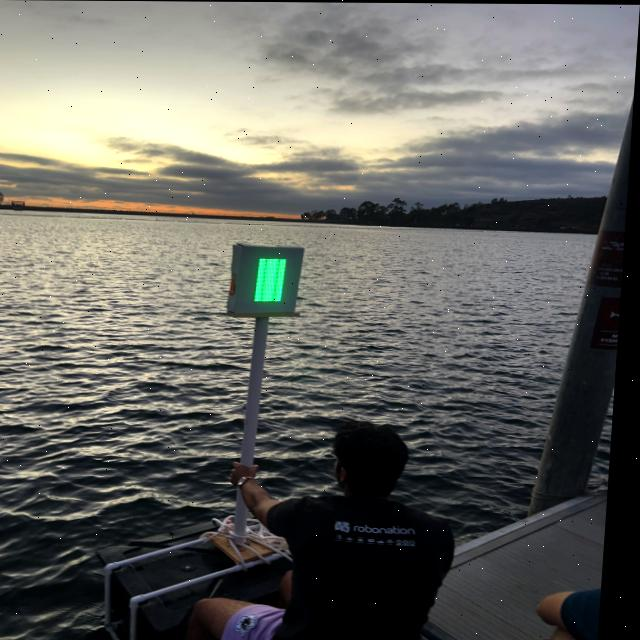led: (245, 246, 301, 312)
